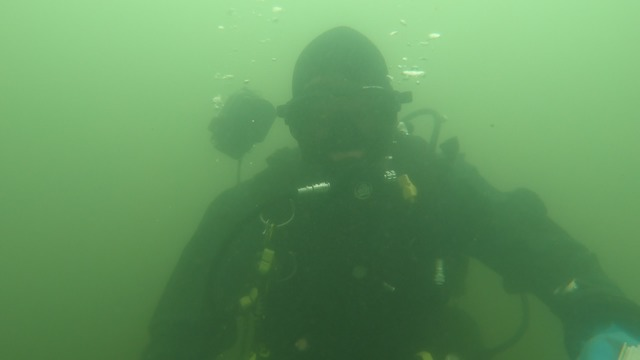Diver: (141, 25, 638, 359)
Head: (265, 28, 424, 193)
